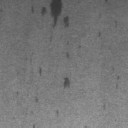red iron: (50, 0, 62, 28), (64, 77, 70, 88), (64, 16, 69, 28), (41, 7, 46, 16), (38, 67, 42, 76), (66, 52, 70, 58), (34, 96, 38, 102), (56, 110, 59, 117)
